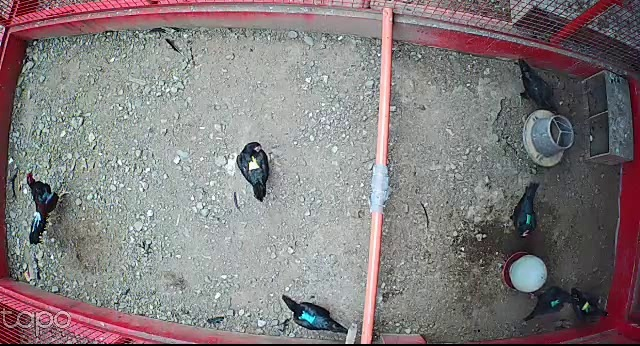Chicken: (515, 55, 563, 120), (276, 295, 351, 336), (516, 284, 579, 328), (233, 140, 272, 201), (508, 182, 544, 242), (565, 283, 609, 321)
Drinker: (499, 249, 547, 290)
Feeder: (521, 108, 571, 165)
Rooster: (22, 169, 73, 245)
Saddle_Color_Yellow: (244, 156, 261, 171)
Saddle_Color_YellowGreen: (582, 300, 592, 312)
